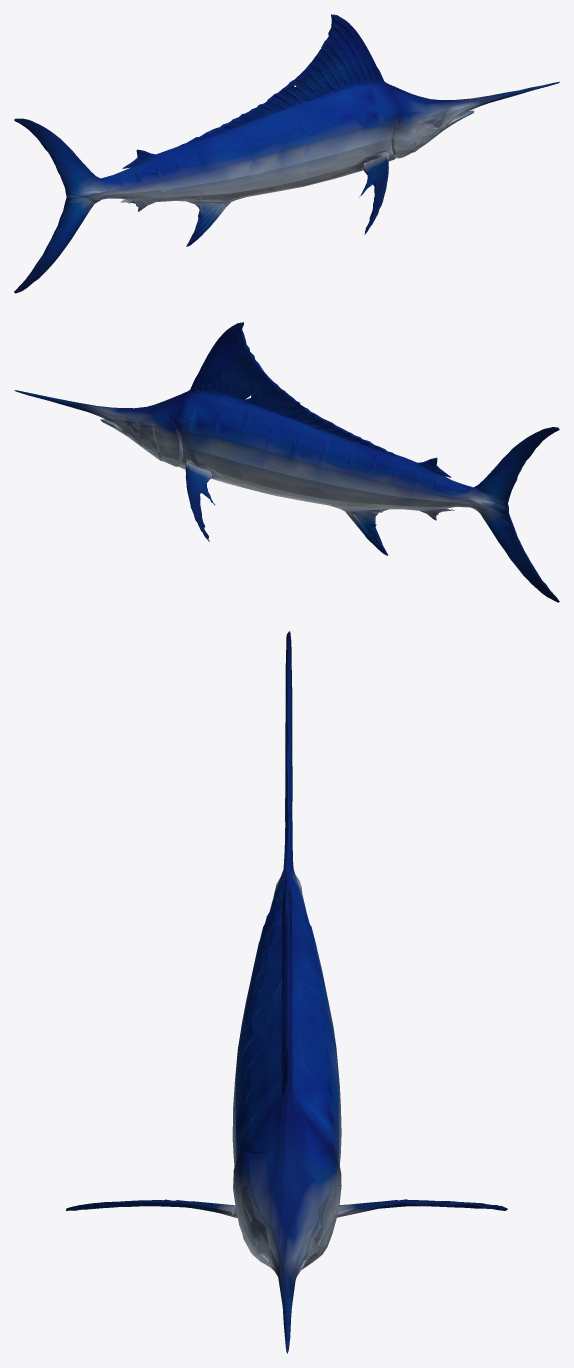
The model's file is marlin.glb.
3 views of the same model, one above another, from view 1: azimuth 30°, elevation 25°; view 2: azimuth 150°, elevation 25°; view 3: azimuth 270°, elevation 25° (orthographic). The views are drawn at different scales.
Parts seen in each view (by area): view 1: marlin; view 2: marlin; view 3: marlin.
Boxes of the visible parts, x1,y1,x2,y2 form: marlin: (14,14,559,293); marlin: (14,322,559,602); marlin: (66,631,507,1353).
Size of the model in its own units: 1.98 by 0.7048 by 0.6968.
